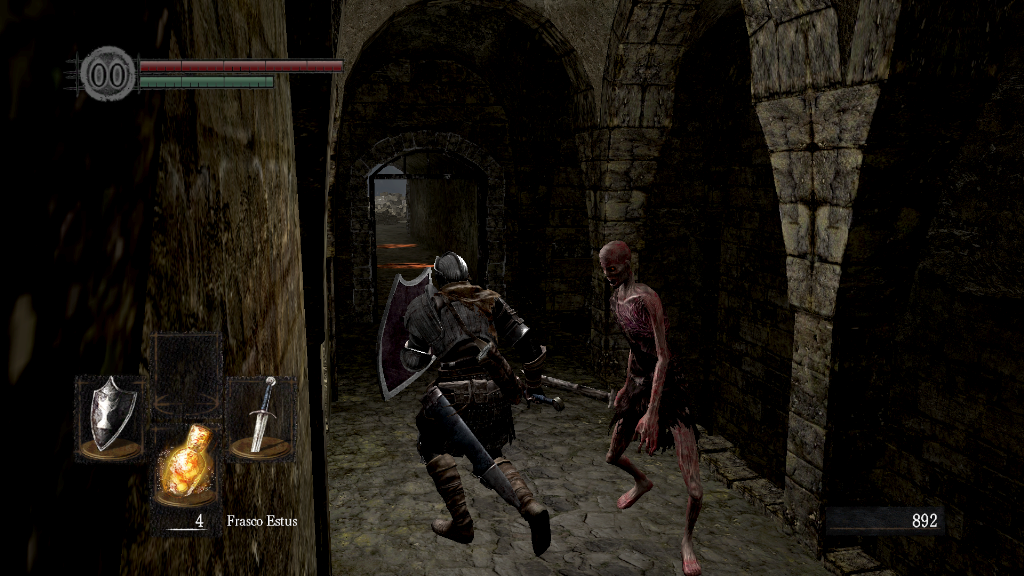health: (138, 58, 343, 71)
hollow: (597, 240, 707, 576)
humanity: (80, 45, 136, 102)
player: (374, 253, 568, 561)
souls: (825, 506, 945, 536)
stamina: (138, 74, 274, 88)
